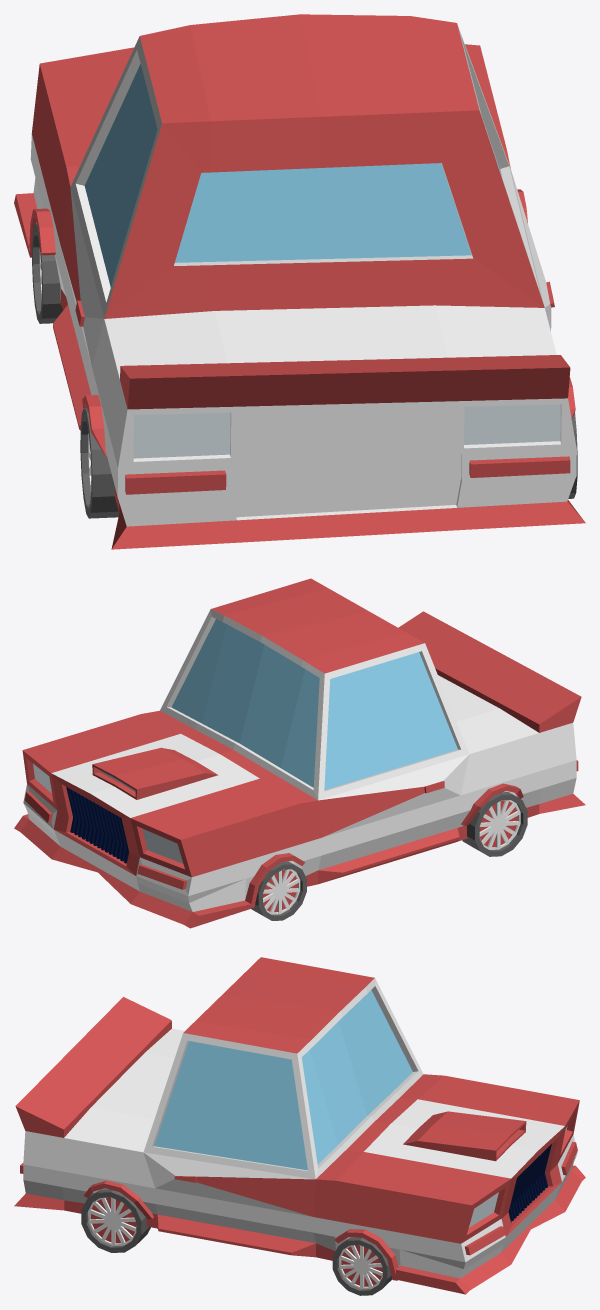
File: car.gltf
3 views of the same model, one above another, from view 1: azimuth 30°, elevation 25°; view 2: azimuth 150°, elevation 25°; view 3: azimuth 270°, elevation 25° (orthographic). The views are drawn at different scales.
Parts seen in each view (by area): view 1: body, backlight, wheel.1, wheel1.1, front_fender, rear_fender; view 2: body, wheel.1, lattice.1, wheel1.1, headlight, front_fender, rear_fender; view 3: body, wheel.1, wheel1.1, lattice.1, front_fender, rear_fender, headlight.
Part boxes in pixels (box(x1,y1,x2,y2)): body: box(14, 14, 585, 549); backlight: box(133, 404, 560, 458); wheel.1: box(80, 407, 577, 518); wheel1.1: box(32, 222, 63, 323); front_fender: box(29, 189, 527, 257); rear_fender: box(82, 377, 575, 456); body: box(14, 578, 585, 928); wheel.1: box(462, 792, 527, 856); lattice.1: box(66, 787, 128, 863); wheel1.1: box(251, 861, 306, 920); headlight: box(33, 763, 183, 863); front_fender: box(245, 853, 304, 908); rear_fender: box(461, 783, 523, 825); body: box(14, 957, 585, 1294); wheel.1: box(81, 1189, 150, 1252); wheel1.1: box(332, 1237, 392, 1295); lattice.1: box(508, 1144, 551, 1222); front_fender: box(334, 1229, 398, 1280); rear_fender: box(83, 1180, 153, 1219); headlight: box(469, 1126, 567, 1227).
Size of the model in its own units: 16.05 by 8.25 by 19.6.
